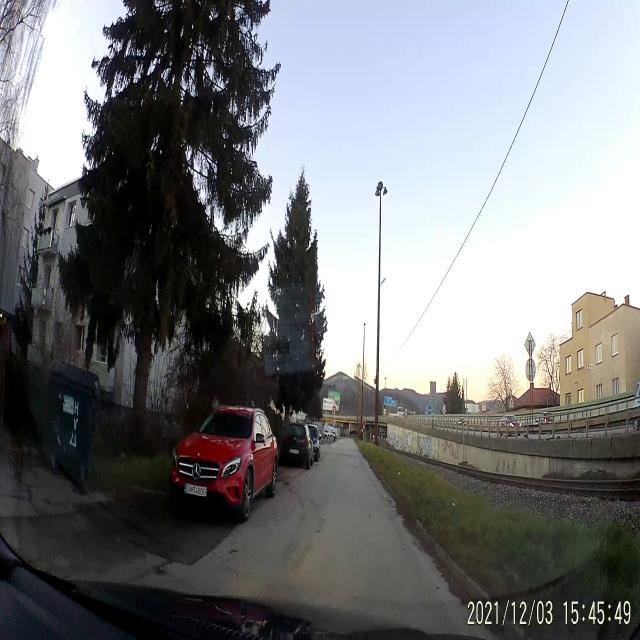Pothole: (154, 564, 168, 578), (227, 546, 238, 556), (42, 496, 50, 508)
